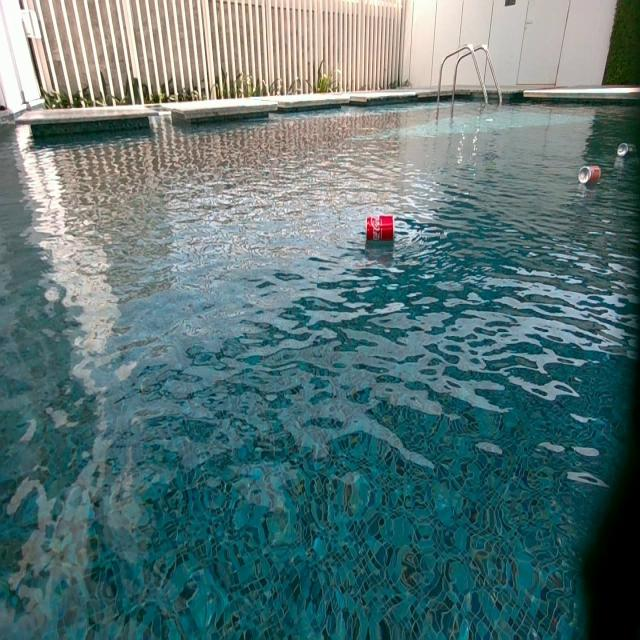Cans: (367, 214, 394, 239), (577, 166, 599, 186), (618, 142, 634, 159)
